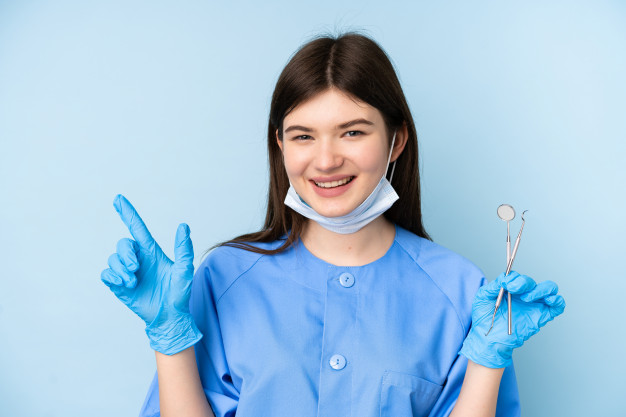mask_weared_incorrect: (275, 102, 411, 238)
